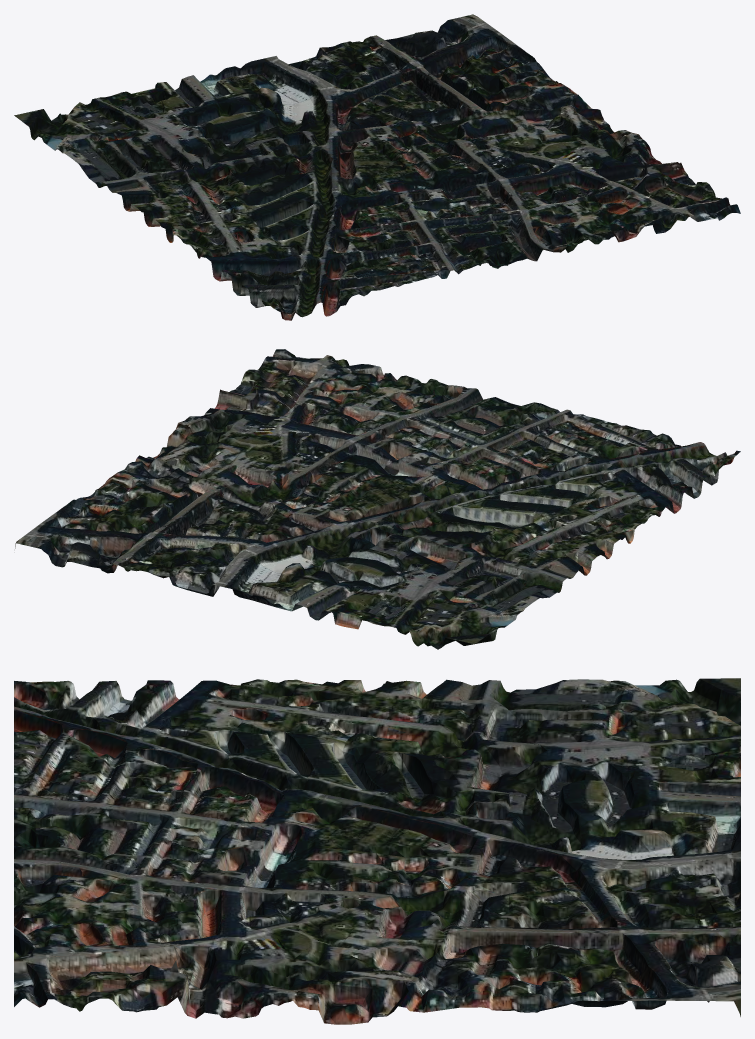
Rendered from map_12_1023_1726.dae.
The picture shows the model from 3 angles, top to bottom: view 1: azimuth 30°, elevation 25°; view 2: azimuth 150°, elevation 25°; view 3: azimuth 270°, elevation 25°; orthographic projection. The views are drawn at different scales.
Parts seen in each view (by area): view 1: Ter0; view 2: Ter0; view 3: Ter0.
Part boxes in pixels (x1,y1,x2,y2): Ter0: (14,14,740,320); Ter0: (15,349,740,649); Ter0: (14,678,740,1024).
Bounding box in the file's own units: 511 × 511 × 31.7.
3 materials, 3 textured.
